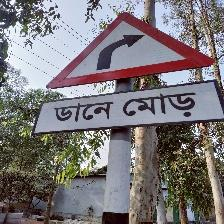Right-turn: (30, 11, 221, 134)
